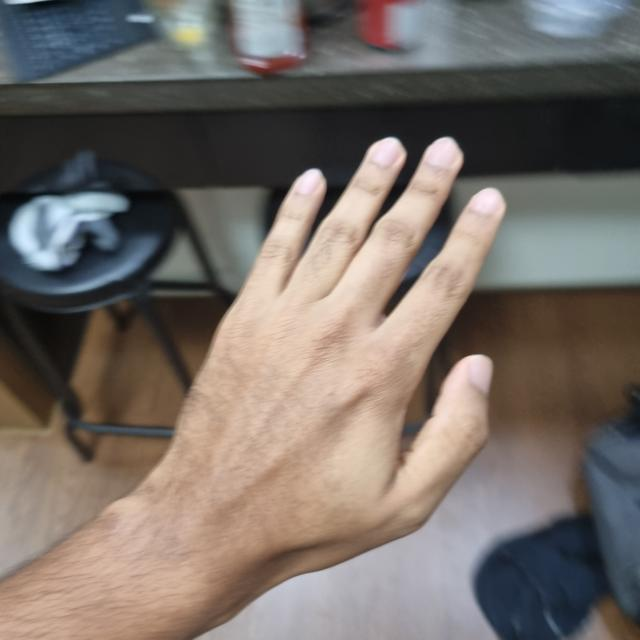Paper: (161, 136, 501, 570)
